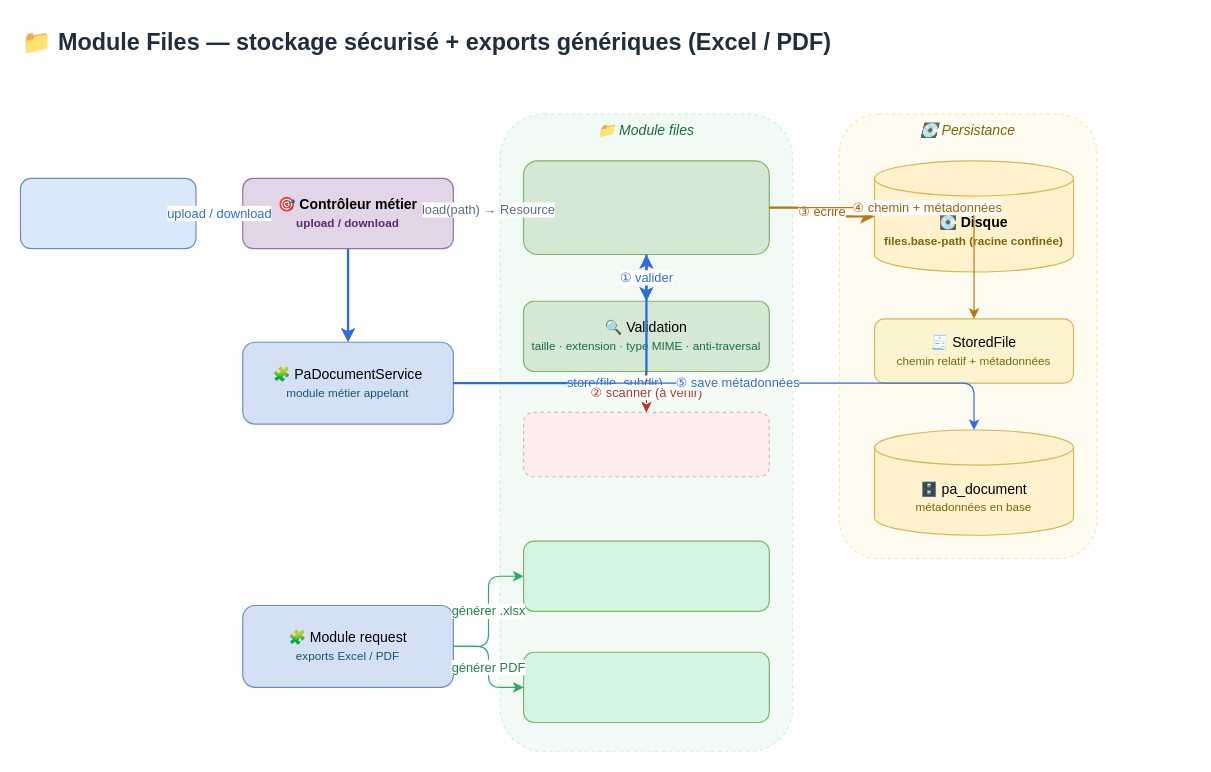
Image size: 1211x772. Some labels were removed from this diagram. Each missing label, with the centre of its shape:
👤 Client: point 107,213
📁 FileStorageService store · load · replace · delete: point 645,207
📄 HtmlPdfService HTML/CSS → PDF (Flying Saucer): point 645,686
📊 ExcelExportService .xlsx générique (POI, en-tête + filtres): point 645,575
🦠 Scan antivirus (à venir — ClamAV): point 645,444
